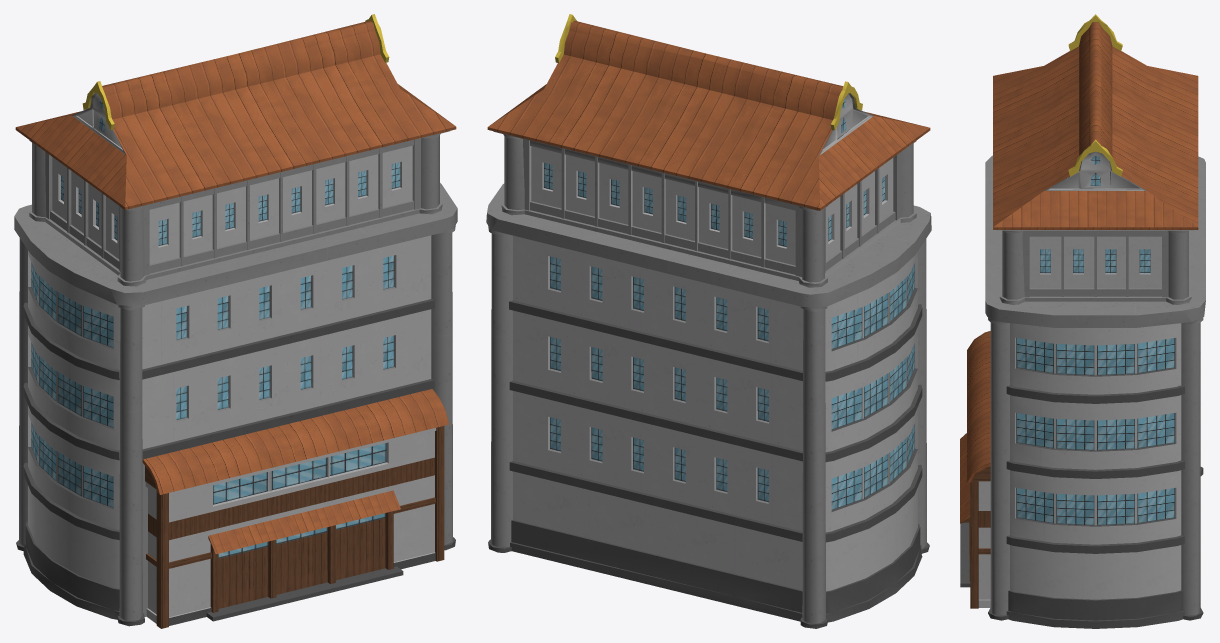
The model's file is SM_ENV_LKNVLD_CommonBuilding_F.FBX.
3 views of the same model, side by side, from view 1: azimuth 30°, elevation 25°; view 2: azimuth 150°, elevation 25°; view 3: azimuth 270°, elevation 25° (orthographic). The views are drawn at different scales.
Parts seen in each view (by area): view 1: SM_ENV_LKNVLD_CommonBuilding_F; view 2: SM_ENV_LKNVLD_CommonBuilding_F; view 3: SM_ENV_LKNVLD_CommonBuilding_F.
Part boxes in pixels (box(x1,y1,x2,y2)): SM_ENV_LKNVLD_CommonBuilding_F: box(14, 14, 457, 628); SM_ENV_LKNVLD_CommonBuilding_F: box(486, 14, 931, 628); SM_ENV_LKNVLD_CommonBuilding_F: box(960, 14, 1205, 628).
Bounding box in the file's own units: 2929 × 3733 × 1784.
